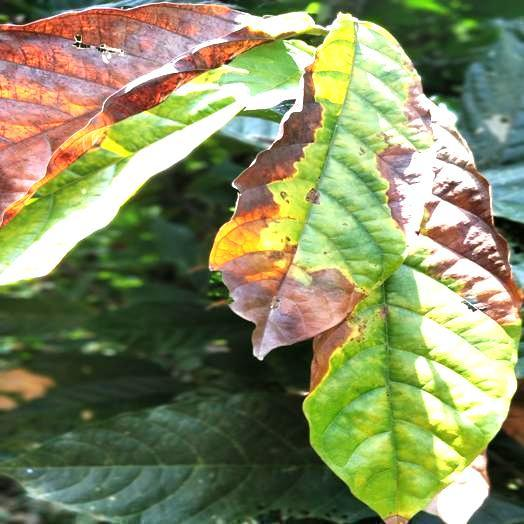Potassium: (304, 107, 519, 519), (211, 14, 431, 357)
